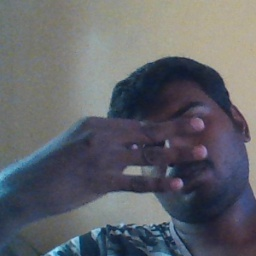K: (56, 109, 209, 205)
